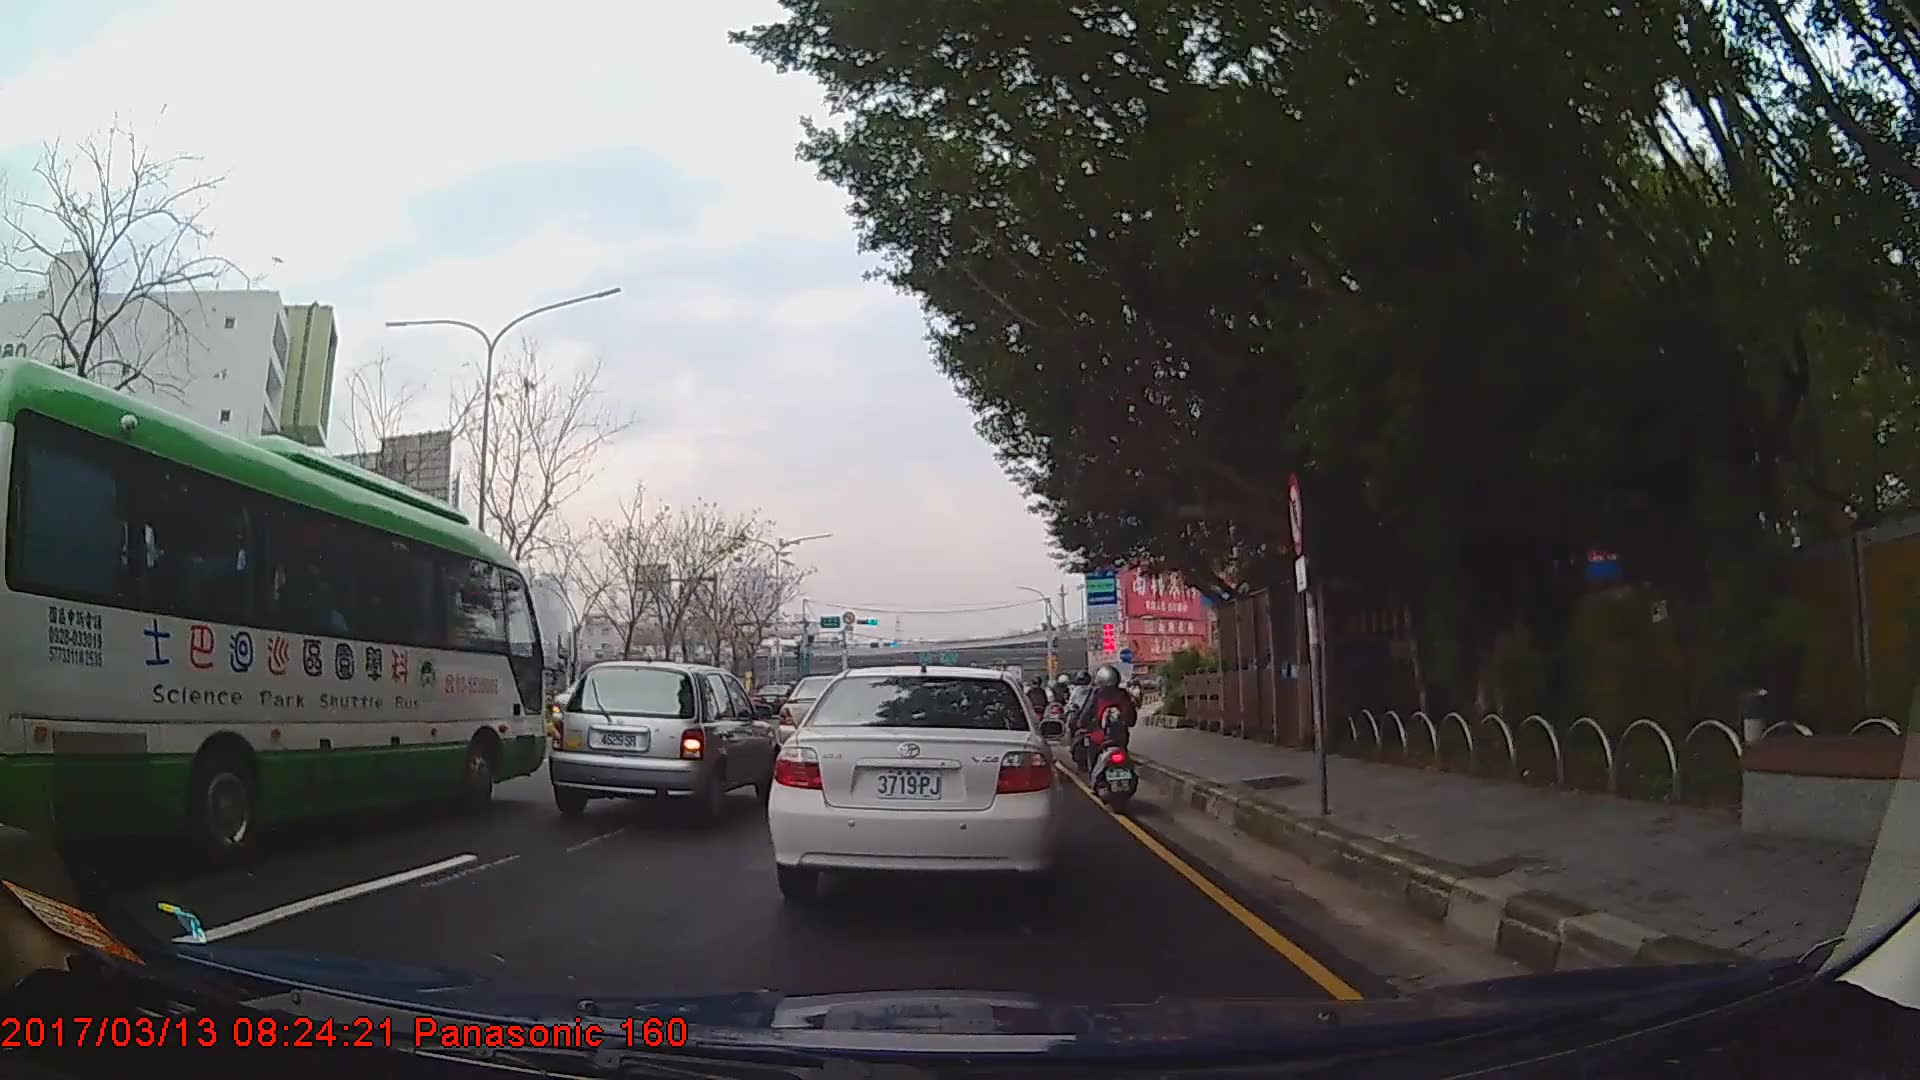rider: (1081, 660, 1143, 813), (1066, 670, 1104, 777), (1026, 675, 1051, 732)
vehicle: (0, 352, 542, 869), (766, 661, 1063, 899), (547, 658, 779, 828), (748, 682, 797, 716)
